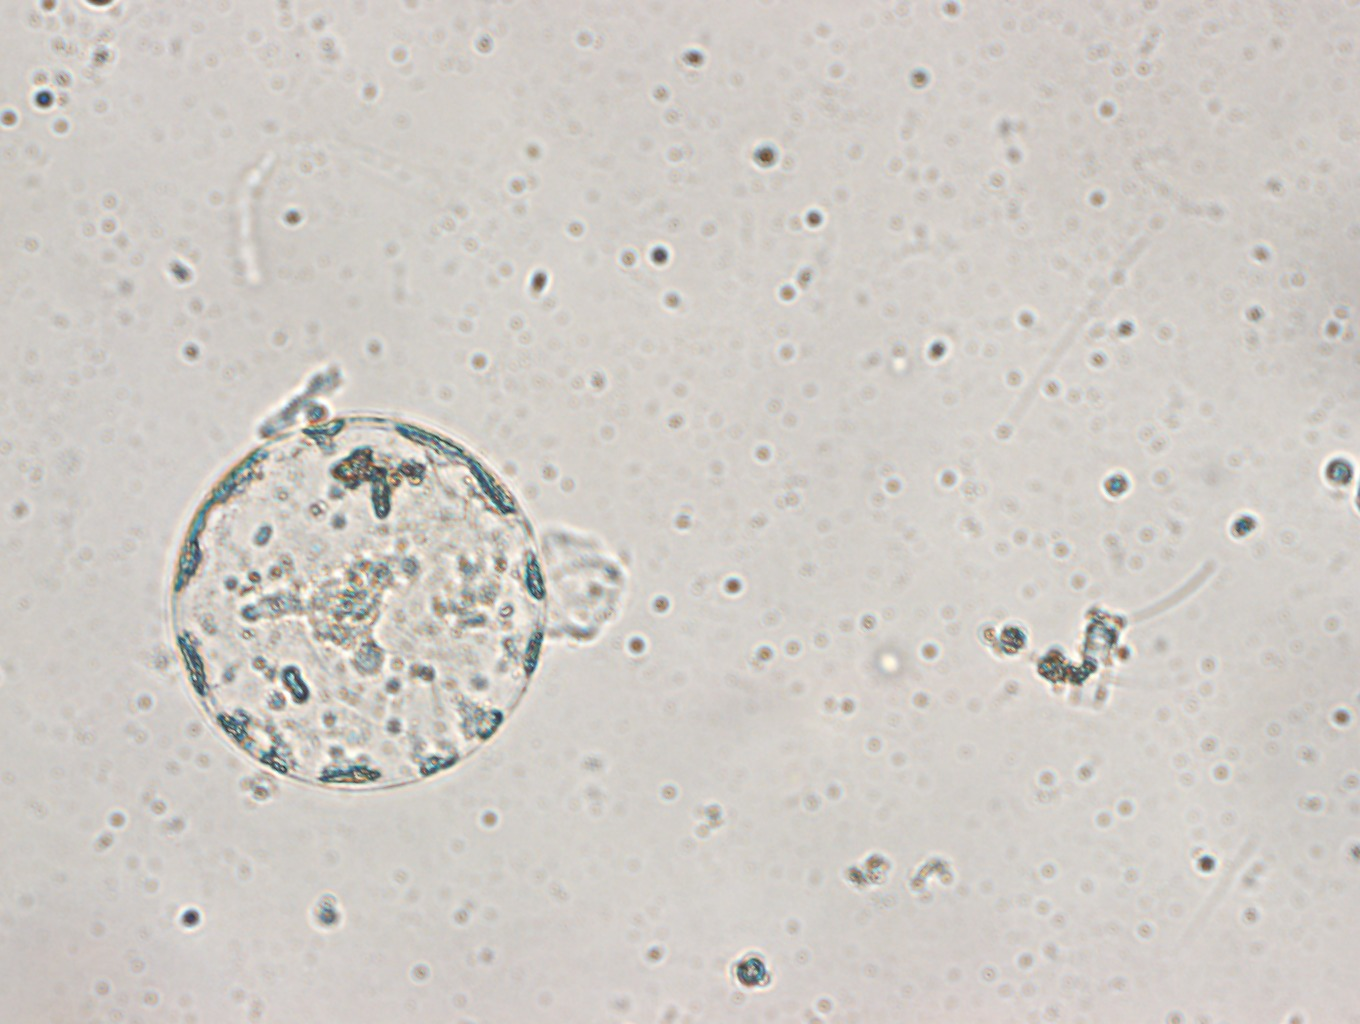coscinodiscus: (167, 410, 552, 794)
